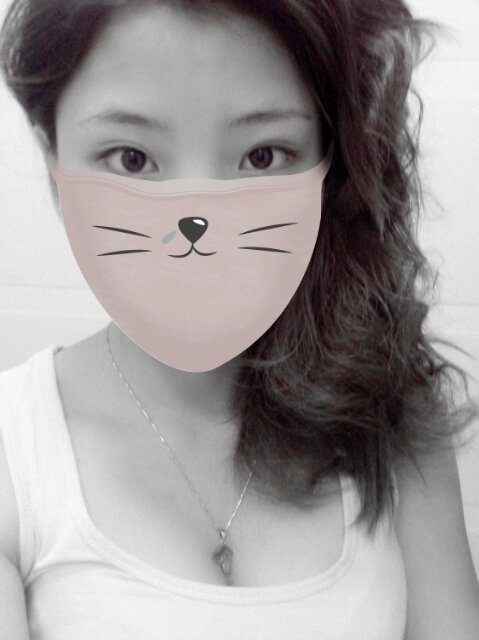face_mask: (60, 0, 323, 367)
